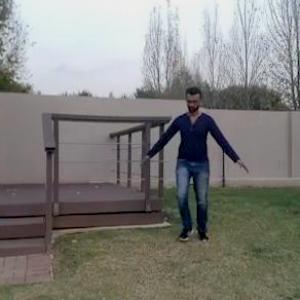land: (136, 73, 244, 259)
